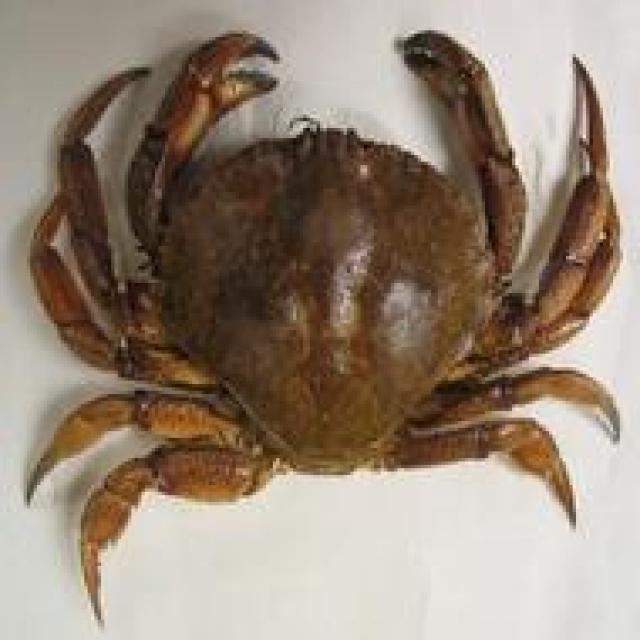Native Rock crab: (27, 30, 620, 616)
